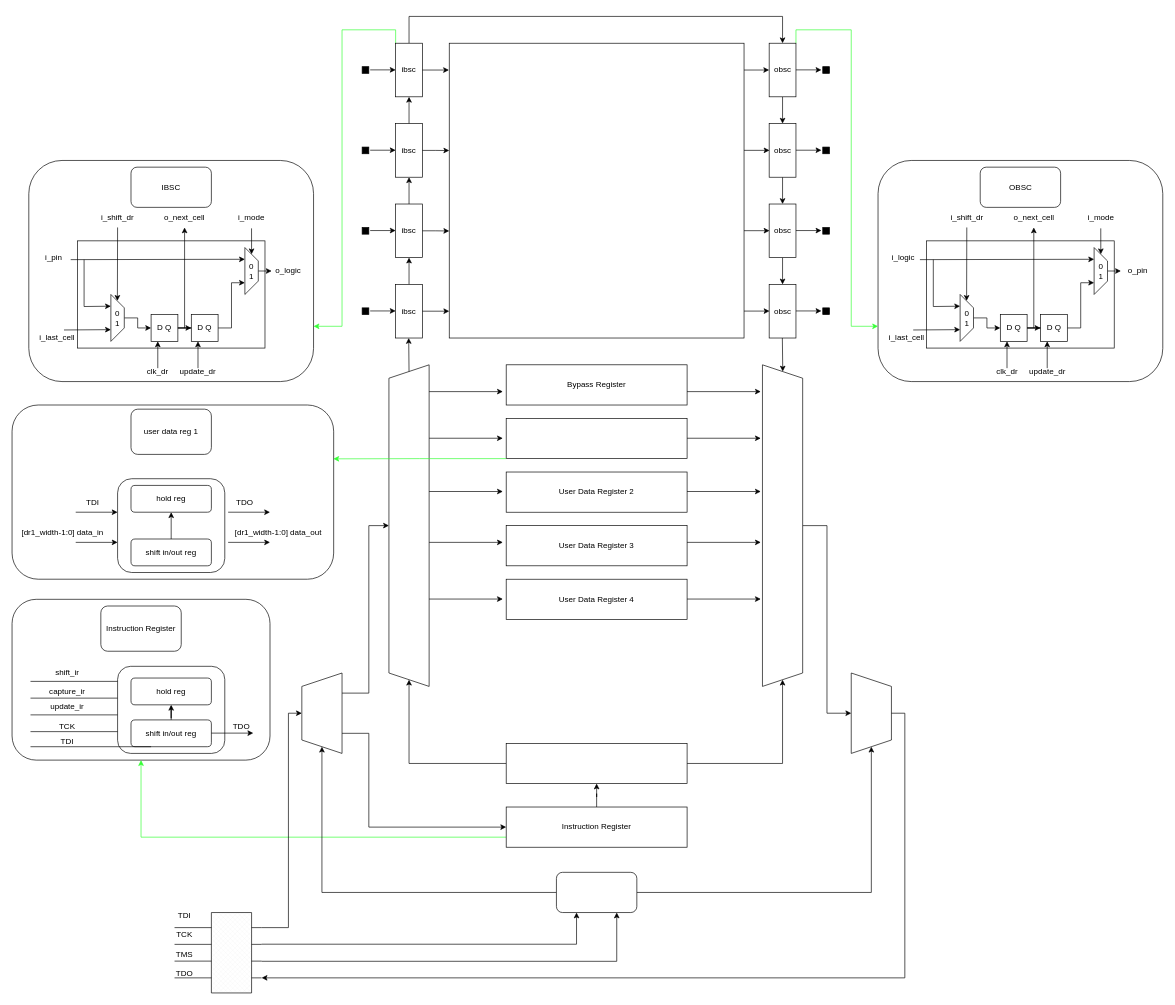
The diagram is 1175 pixels wide and 1005 high, and some of its shapes have lost their labels. The shapes that lost their labels are listed below. From the top down, each one's centre as x and y in pixels, then its label:
At (596,190): "CORE LOGIC".
At (596,438): "User Data Register 1".
At (596,763): "Instruction Decoder".
At (596,892): "TAP CONTROLLER".
